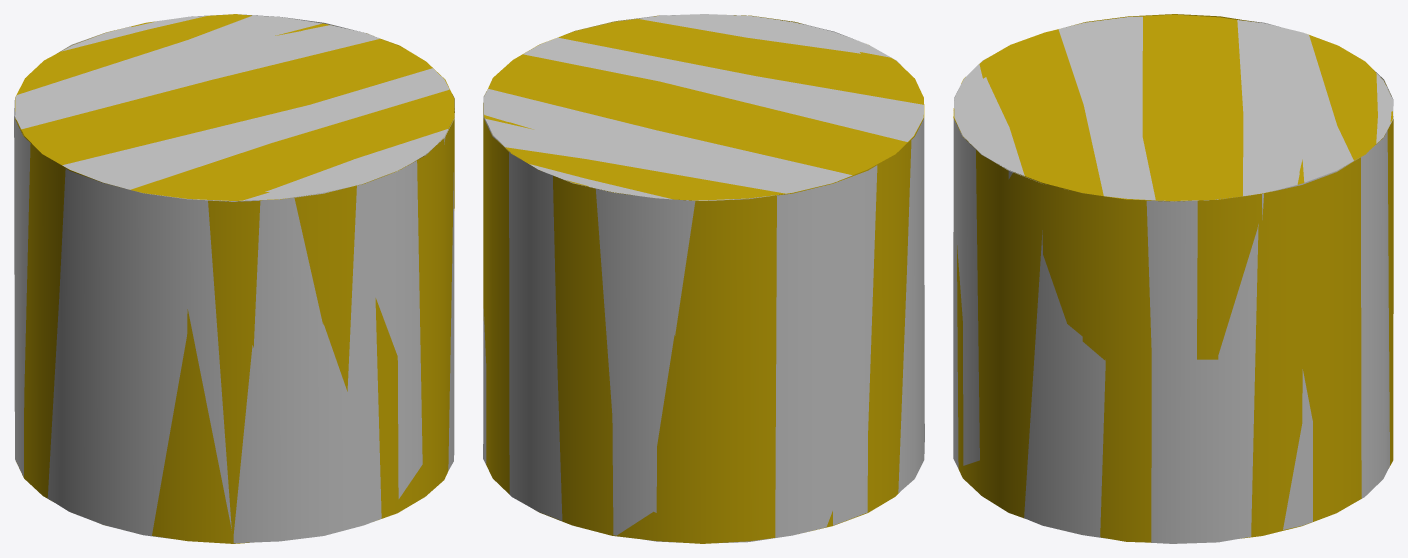
File: original_3.obj
3 renders of one model, left to right at view 1: azimuth 30°, elevation 25°; view 2: azimuth 150°, elevation 25°; view 3: azimuth 270°, elevation 25°, orthographic.
Visible parts, largest first — view 1: group_2/ID26#ID26; view 2: group_2/ID26#ID26; view 3: group_2/ID26#ID26.
Part boxes in pixels (box(x1,y1,x2,y2)): group_2/ID26#ID26: box(14, 14, 454, 543); group_2/ID26#ID26: box(483, 14, 924, 543); group_2/ID26#ID26: box(953, 14, 1393, 543).
Size of the model in its own units: 0.0972 by 0.0832 by 0.0967.
